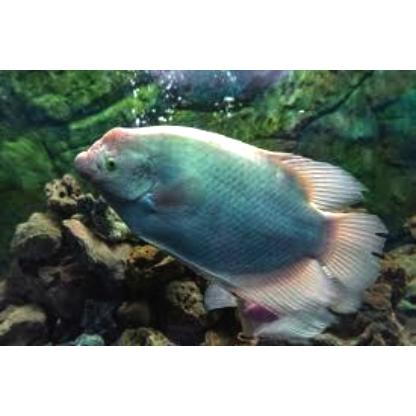gurame: (74, 124, 384, 309)
